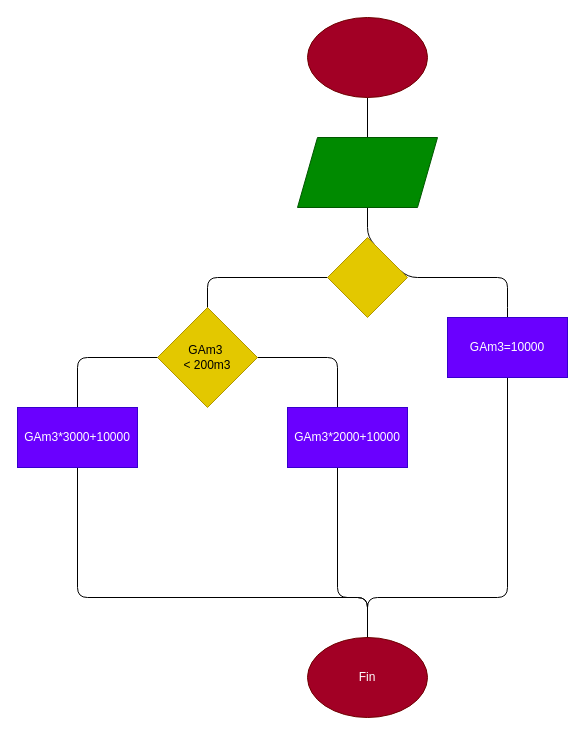
Image size: 585x735. Some labels were removed from this diagram. The shapes that lost their labels are listed below. From the top down, each one's box as (x1, y1, x2, y2) in pixels, then its label:
(306, 16, 428, 98): Inicio
(296, 136, 438, 208): Gasto_agua "GAm3"
(326, 236, 408, 318): GAm3 <50m3
